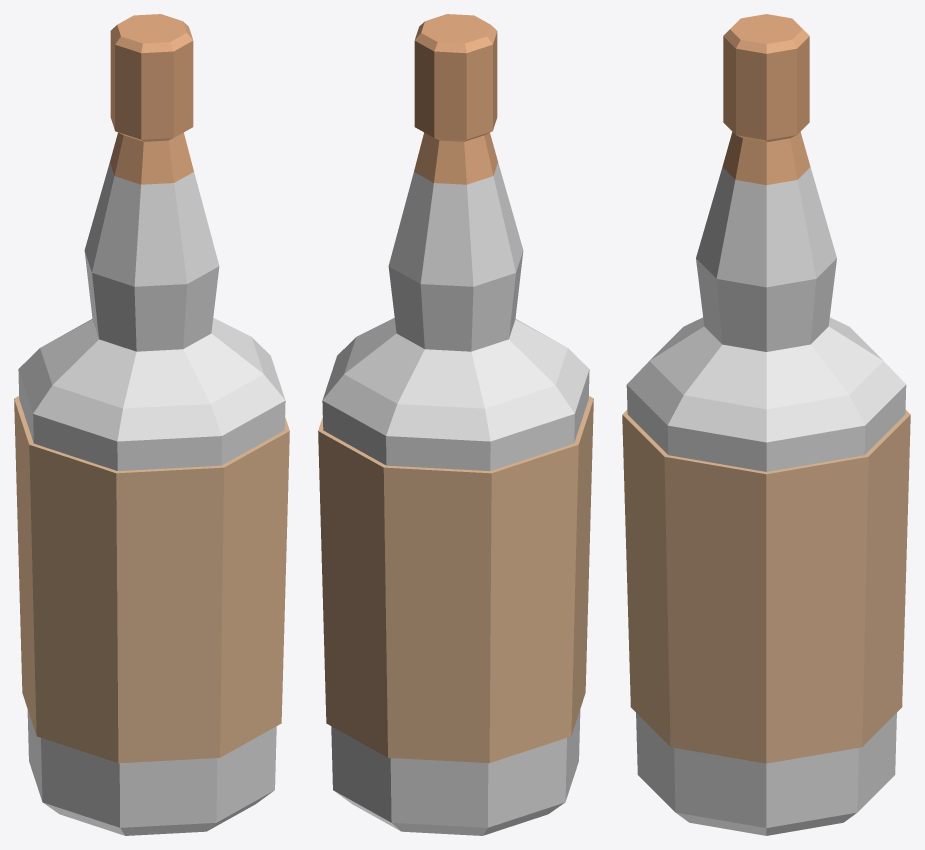
File: Botella_4_2.fbx
3 renders of one model, left to right at view 1: azimuth 30°, elevation 25°; view 2: azimuth 150°, elevation 25°; view 3: azimuth 270°, elevation 25°, orthographic.
Visible parts, largest first — view 1: Botella_4_2; view 2: Botella_4_2; view 3: Botella_4_2.
Part boxes in pixels (x1,y1,x2,y2): Botella_4_2: [14, 14, 289, 835]; Botella_4_2: [318, 14, 593, 835]; Botella_4_2: [622, 14, 910, 835].
Bounding box in the file's own units: 62.88 × 187 × 64.11.
